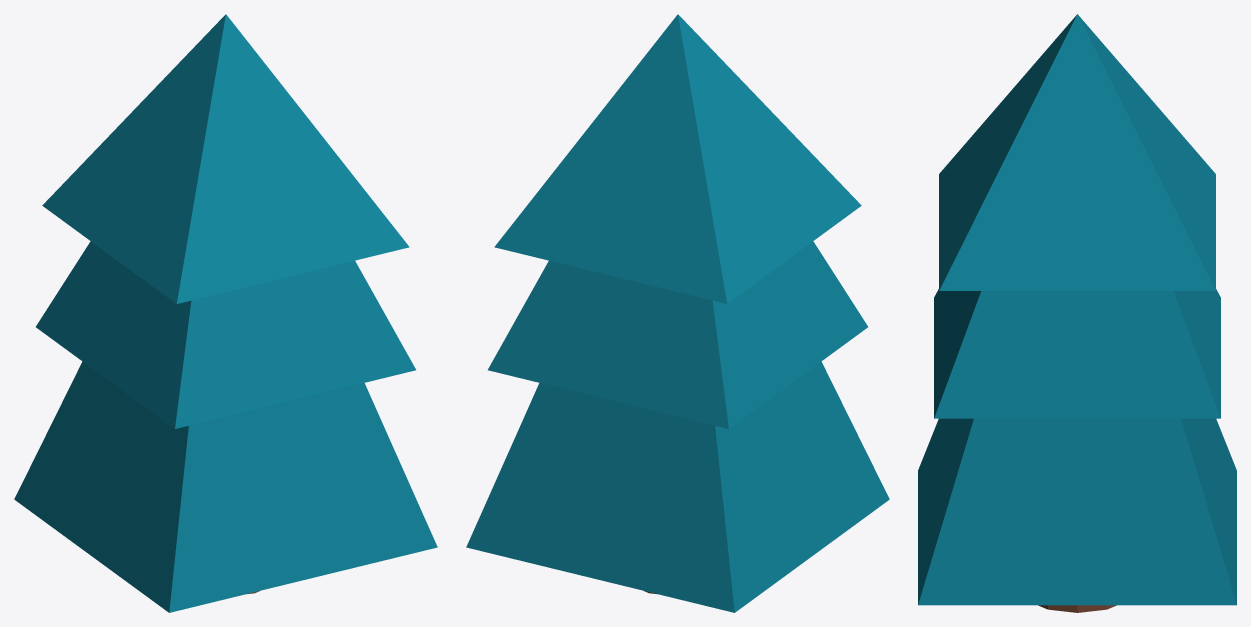
Rendered from Tree_18_summer_blue_mat.fbx.
3 views of the same model, side by side, from view 1: azimuth 30°, elevation 25°; view 2: azimuth 150°, elevation 25°; view 3: azimuth 270°, elevation 25° (orthographic). The views are drawn at different scales.
Visible parts, largest first — view 1: Tree_18_summer_blue_mat; view 2: Tree_18_summer_blue_mat; view 3: Tree_18_summer_blue_mat.
Boxes of the visible parts, x1,y1,x2,y2 form: Tree_18_summer_blue_mat: (14,14,437,612); Tree_18_summer_blue_mat: (466,14,889,612); Tree_18_summer_blue_mat: (918,14,1236,612).
Bounding box in the file's own units: 95.96 × 191 × 95.96.
